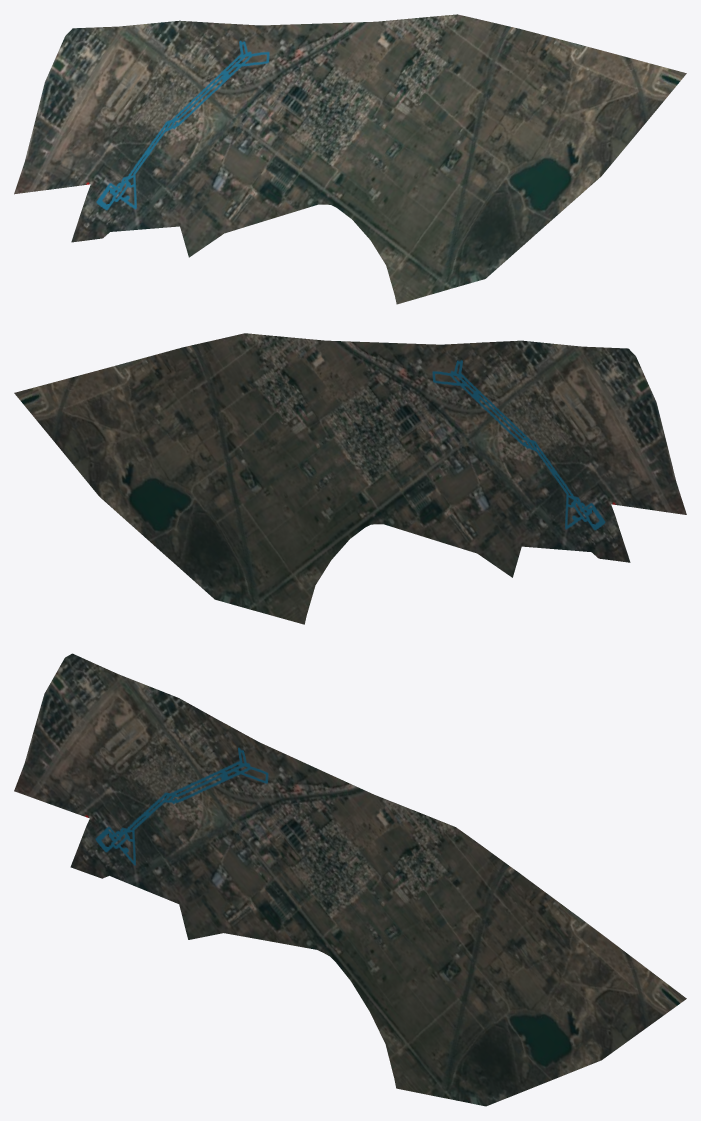
File: dibiao.obj
3 views of the same model, one above another, from view 1: azimuth 30°, elevation 25°; view 2: azimuth 150°, elevation 25°; view 3: azimuth 330°, elevation 25° (orthographic).
Parts seen in each view (by area): view 1: 0_1Top; view 2: 0_1Top; view 3: 0_1Top.
Boxes of the visible parts, bbox=[...] form: 0_1Top: bbox=[14, 14, 686, 304]; 0_1Top: bbox=[14, 333, 686, 624]; 0_1Top: bbox=[14, 653, 686, 1106].
Bounding box in the file's own units: 66.48 × 33.54 × 0.2333.
Materials: 1 (1 with a texture image).
